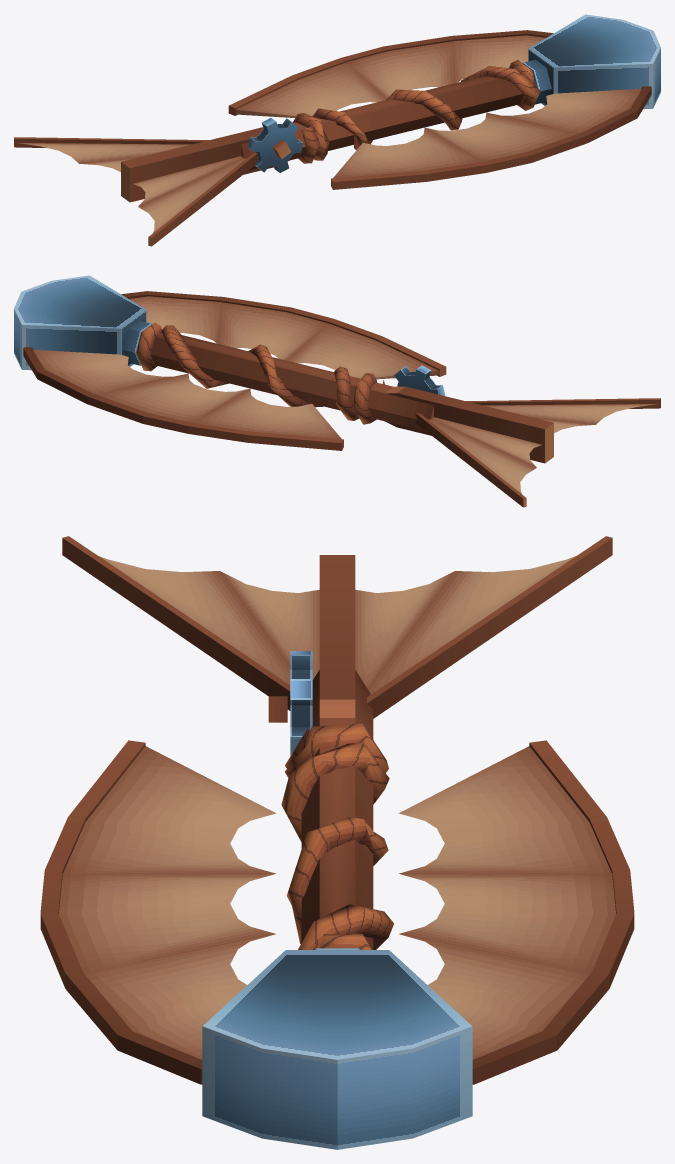
File: VeniceV2Board.glb
3 views of the same model, one above another, from view 1: azimuth 30°, elevation 25°; view 2: azimuth 150°, elevation 25°; view 3: azimuth 270°, elevation 25° (orthographic). The views are drawn at different scales.
Parts seen in each view (by area): view 1: VeniceV2Board; view 2: VeniceV2Board; view 3: VeniceV2Board.
Part boxes in pixels (left/top/right/bottom): VeniceV2Board: left=14, top=14, right=660, bottom=246; VeniceV2Board: left=14, top=275, right=660, bottom=507; VeniceV2Board: left=40, top=536, right=634, bottom=1149.
Bounding box in the file's own units: 12.83 × 1.26 × 5.77.
Materials: 1 (1 with a texture image).
